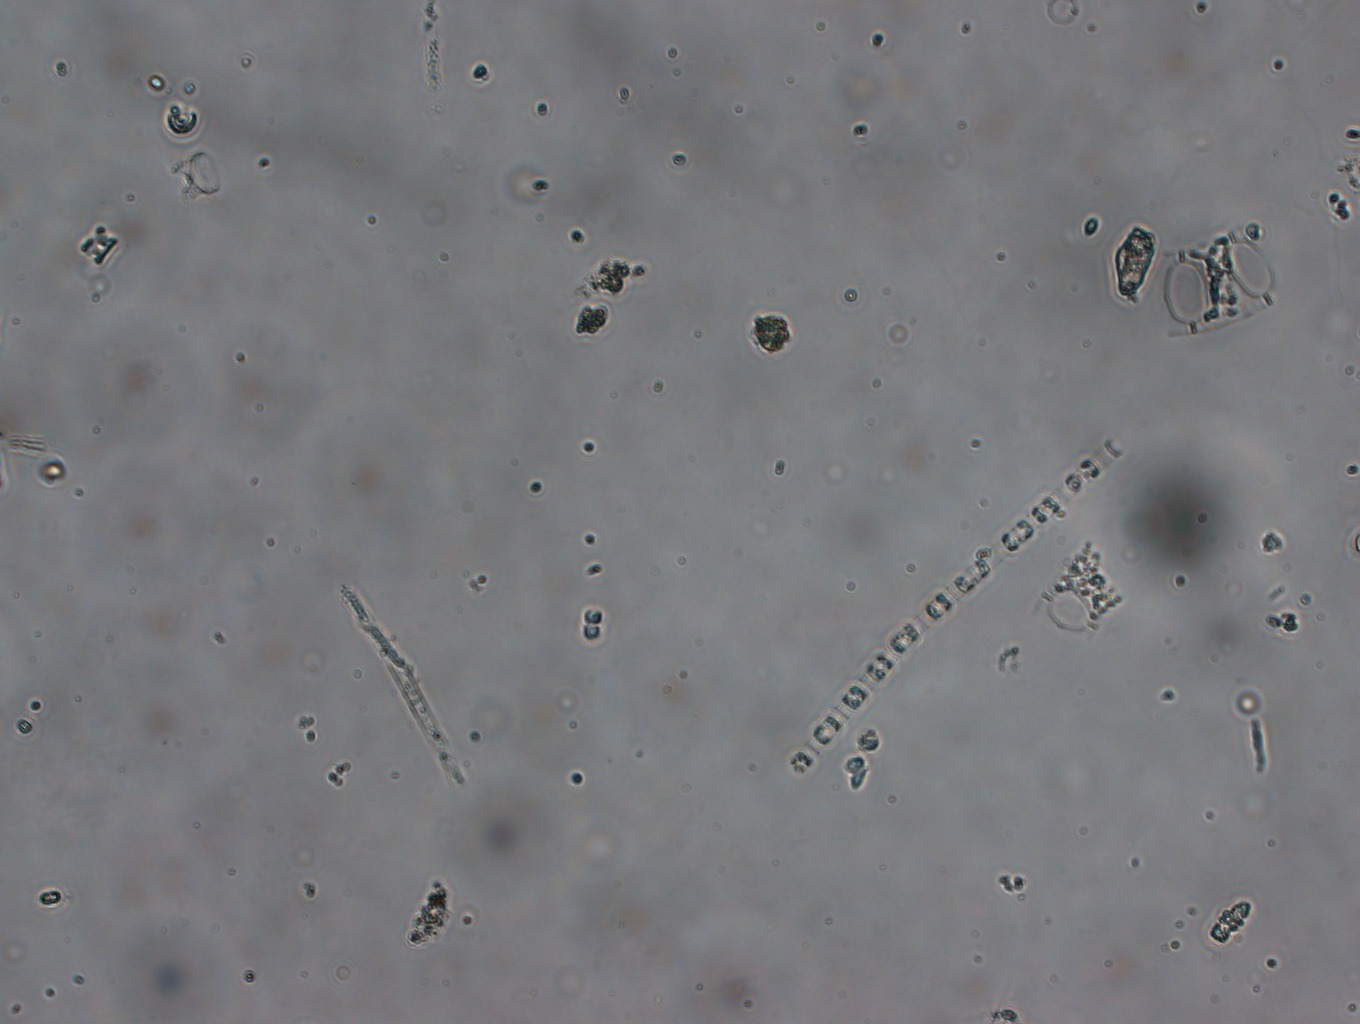skeletonema: (787, 421, 1132, 782)
